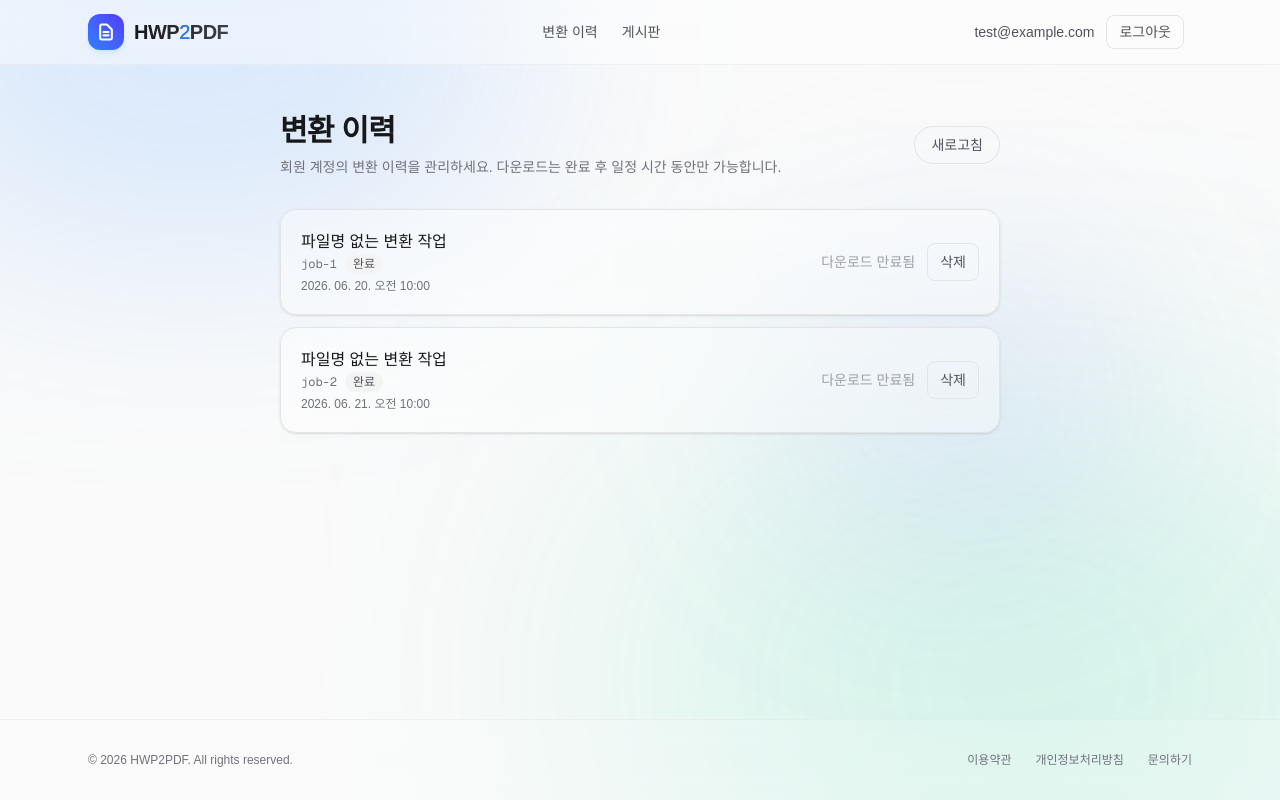
Test: HistoryPage › removes the deleted row from the list after successful delete
The image size is (1280, 800).
Expected: the text "job-1" is shown, x1=301 y1=256 x2=337 y2=272
Expected: the text "job-2" is shown, x1=301 y1=374 x2=337 y2=390
Click the button with test id "delete-button-job-1". click: (953, 262)
box: x1=927 y1=243 x2=979 y2=281
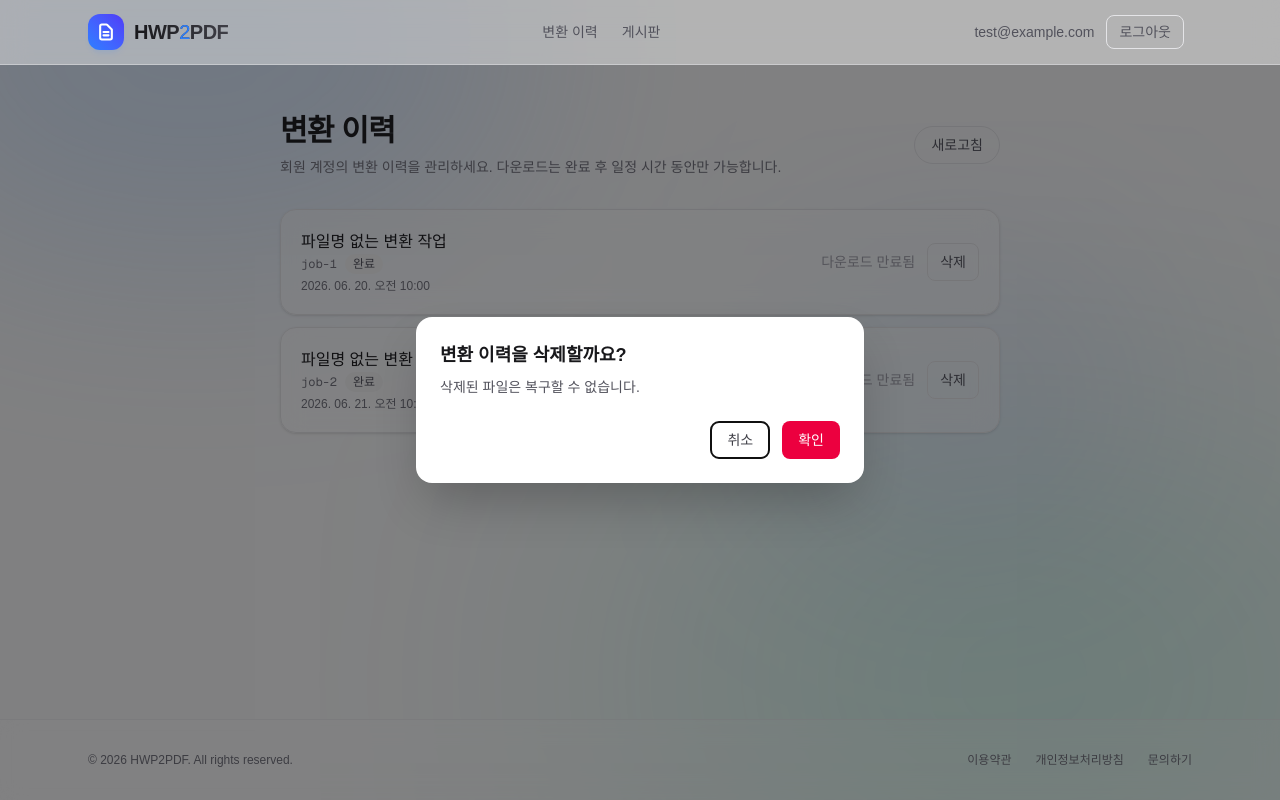
Click the button with test id "confirmation-confirm". click: (811, 440)
box: x1=782 y1=421 x2=840 y2=459
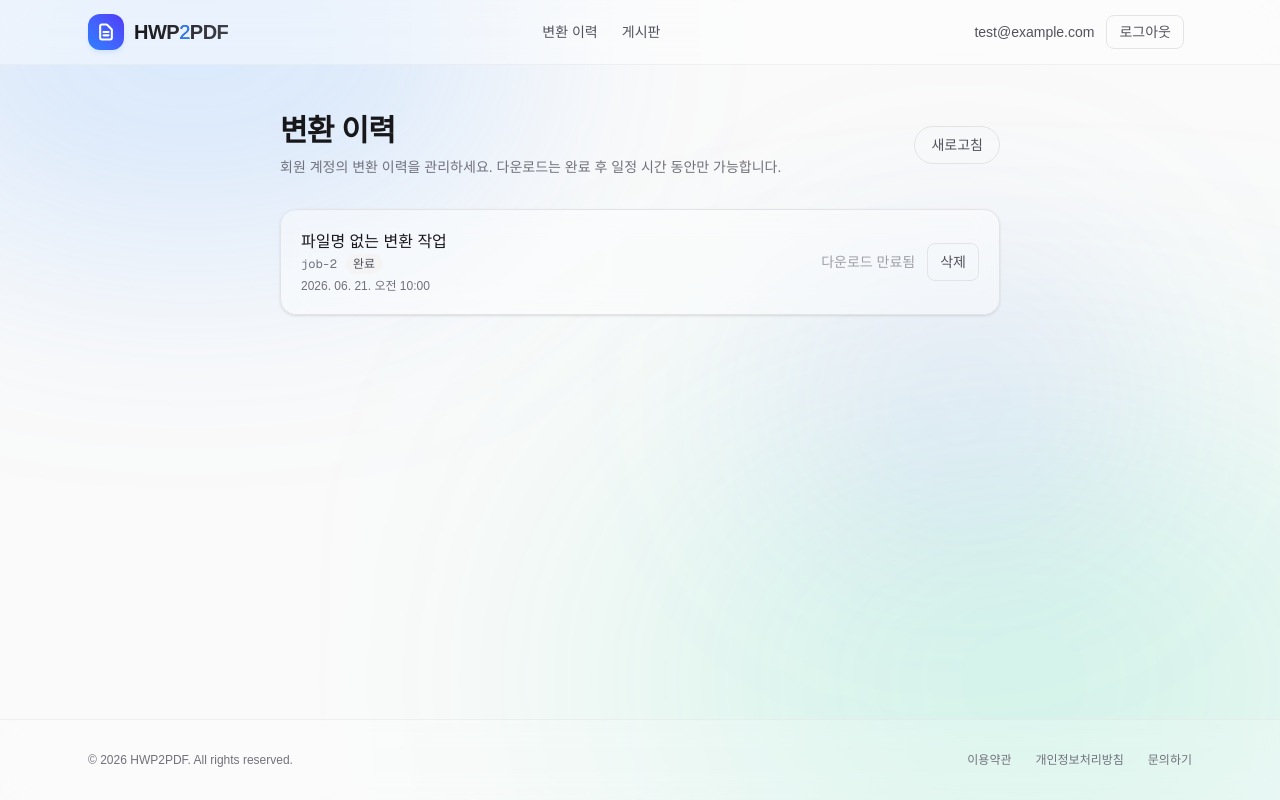
Expected: the text "job-2" is shown, x1=301 y1=256 x2=337 y2=272
Expected: the text "job-1" is gone
